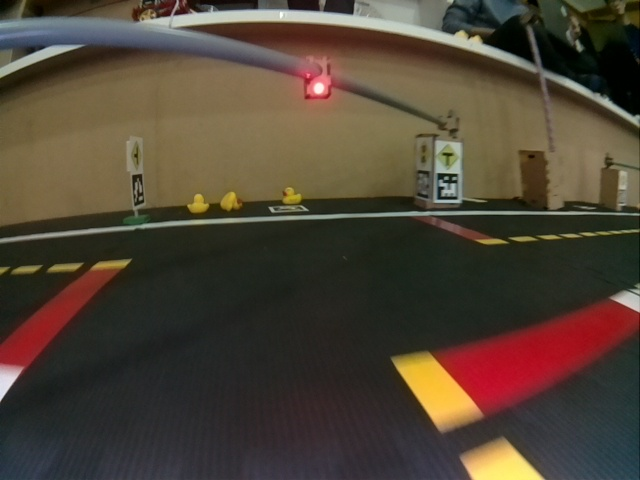Duckie: (189, 193, 209, 213), (221, 192, 243, 209), (282, 187, 302, 204)
Intersection sign: (437, 144, 459, 169), (131, 141, 143, 171)
QR code: (437, 172, 459, 201), (416, 170, 429, 199), (133, 174, 145, 205), (270, 204, 308, 213)
Signal sign: (417, 141, 431, 166)
Traffic light: (303, 57, 333, 97)
